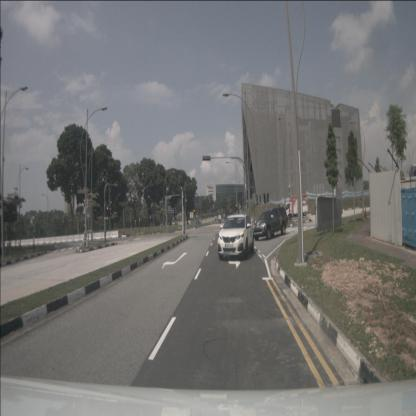cone: (362, 206, 368, 220), (82, 238, 86, 251)
